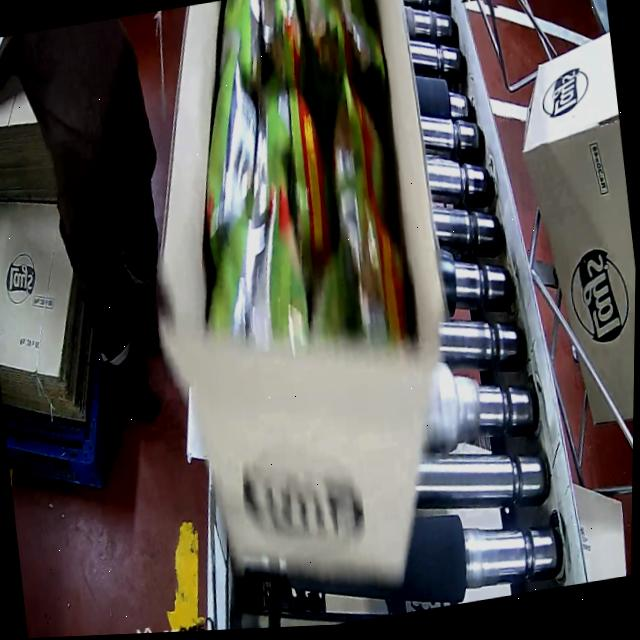YOGURT_HERB: (188, 0, 423, 372)
